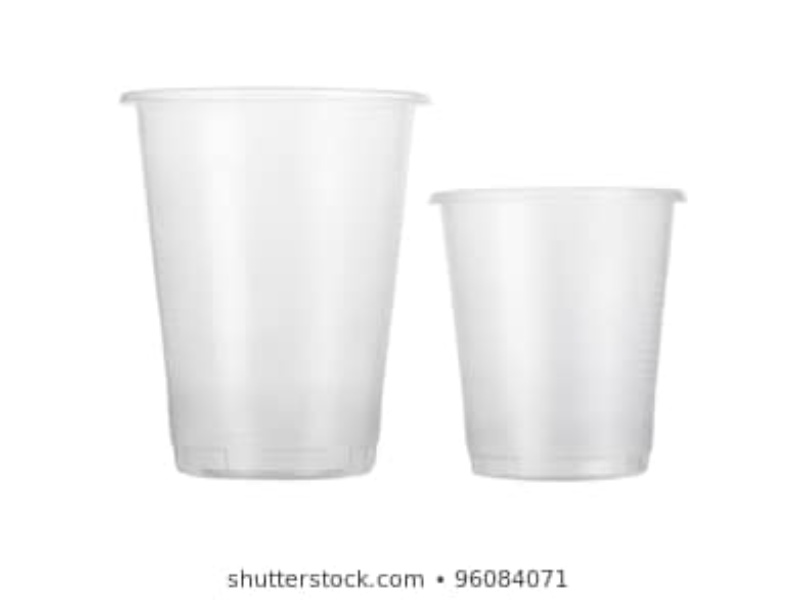plastic-cup: (116, 77, 435, 489), (427, 175, 693, 480)
